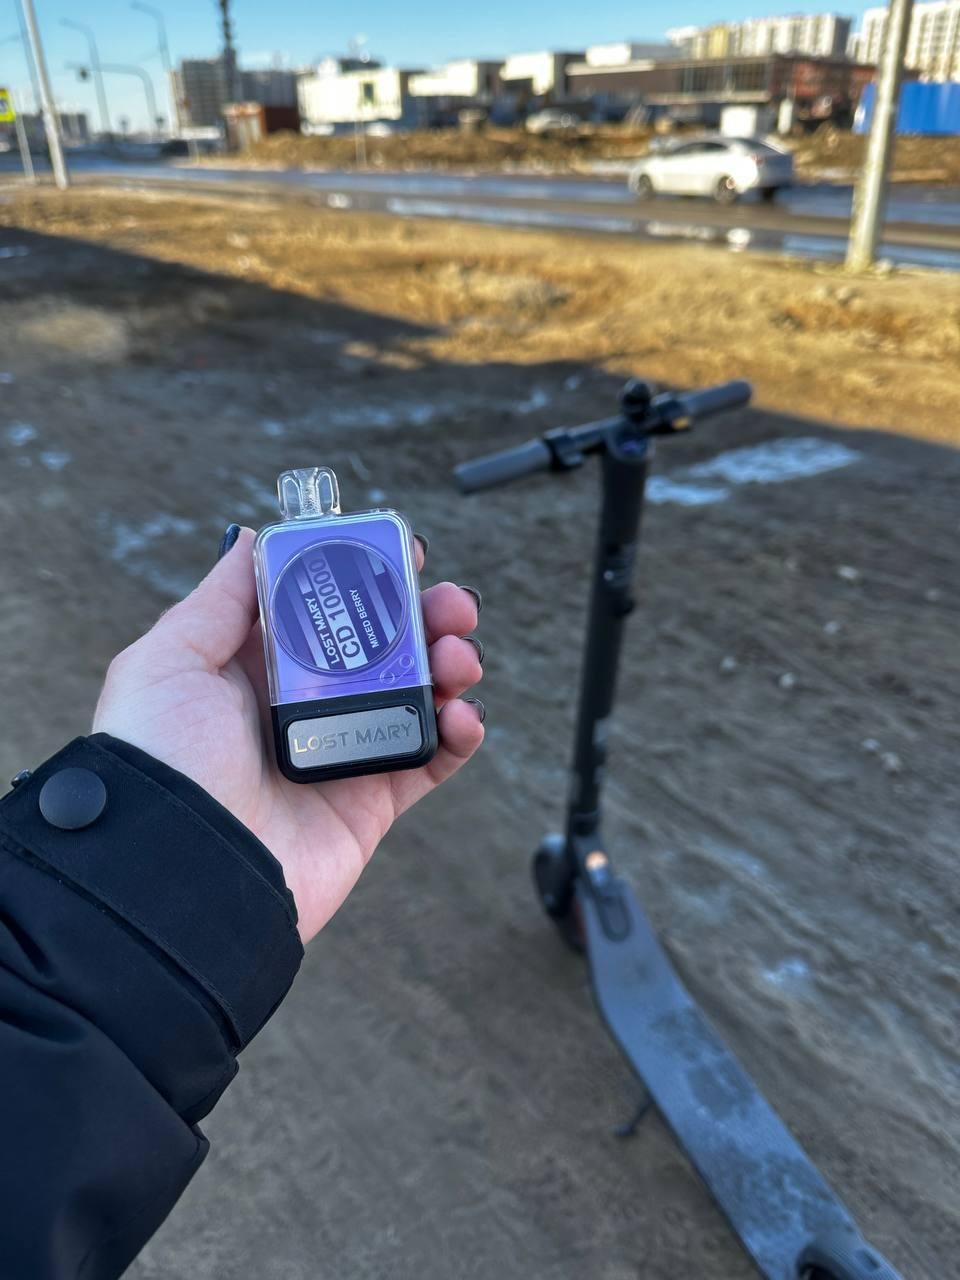Vape: (254, 467, 437, 783)
